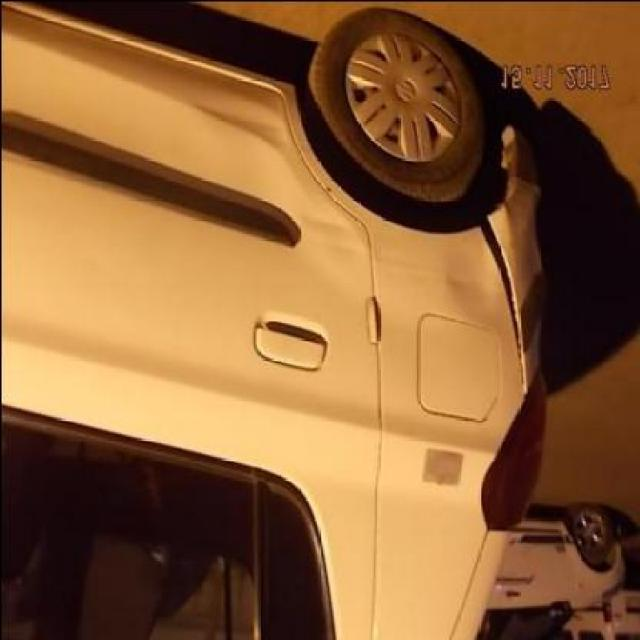damage: (191, 90, 337, 193), (305, 197, 441, 296), (476, 211, 530, 390), (440, 230, 492, 318)
